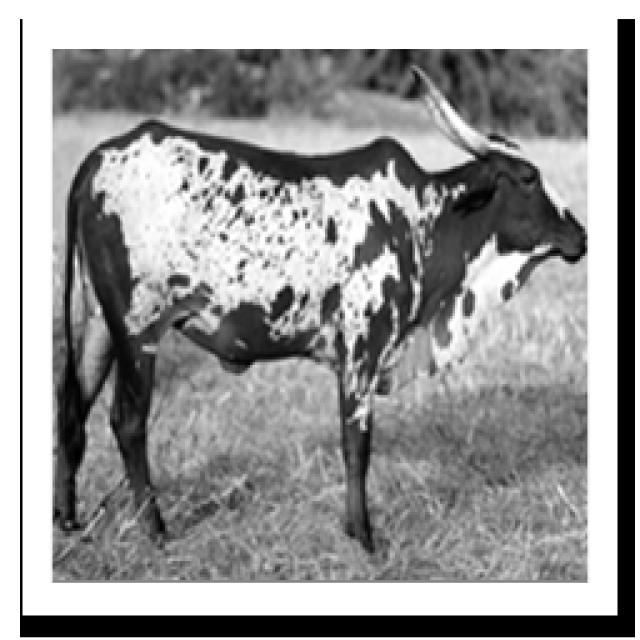Cow: (53, 62, 585, 556)
